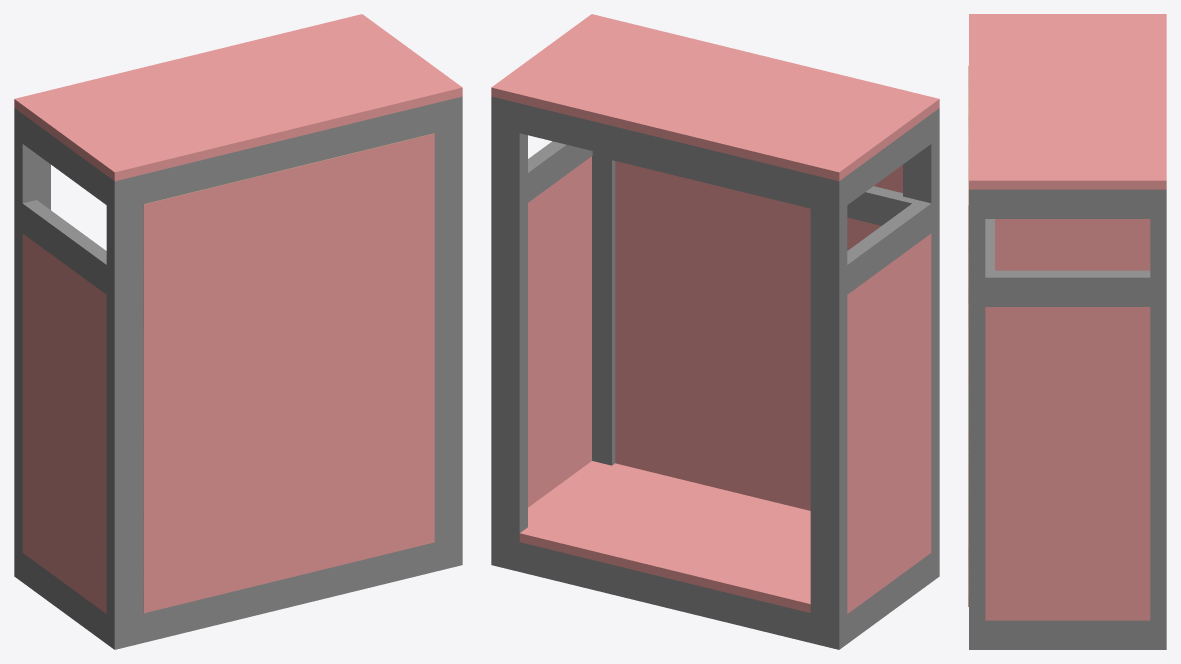
3 views of the same model, side by side, from view 1: azimuth 30°, elevation 25°; view 2: azimuth 150°, elevation 25°; view 3: azimuth 270°, elevation 25° (orthographic).
Parts seen in each view (by area): view 1: Root Node, 188466; view 2: Root Node, 188466; view 3: Root Node, 188466.
Boxes of the visible parts, x1,y1,x2,y2 form: Root Node: (14,14,462,613); 188466: (14,96,462,649); Root Node: (491,14,939,613); 188466: (491,96,939,649); Root Node: (968,14,1166,620); 188466: (969,189,1166,649).
Size of the model in its own units: 0.61 by 0.8 by 0.306.
136 materials, 22 textured.
